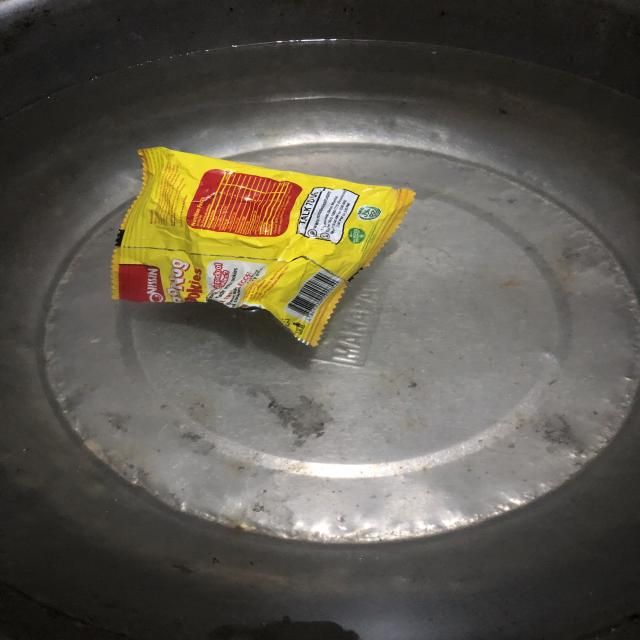Plastic Wrapper: (113, 140, 414, 349)
